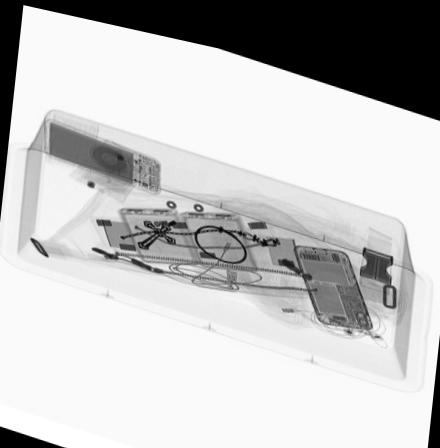Powerbank: (43, 111, 161, 189)
